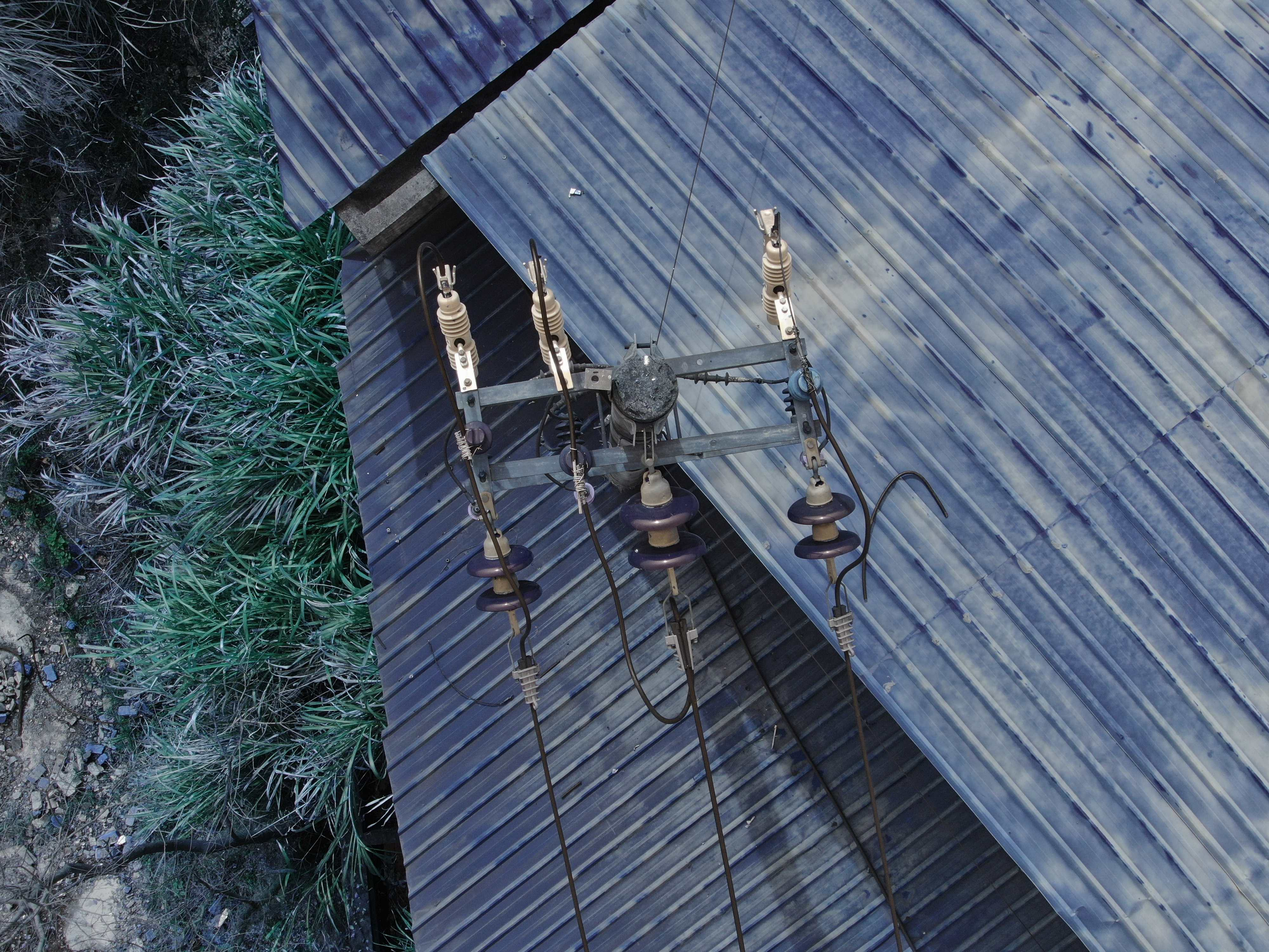severe_soiling_no_discharge_whole: (785, 365, 826, 404)
